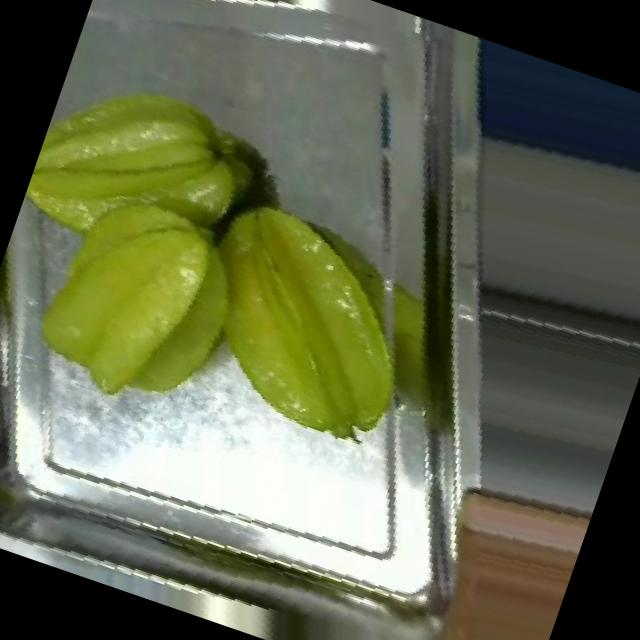fruit: (0, 45, 309, 448), (133, 149, 472, 479), (373, 419, 607, 640)
